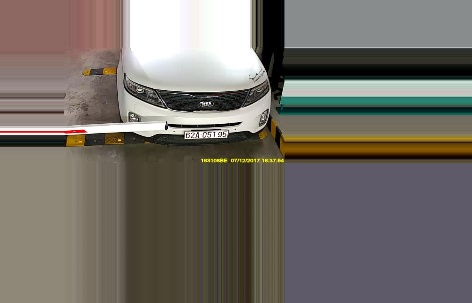plate: (183, 127, 226, 139)
